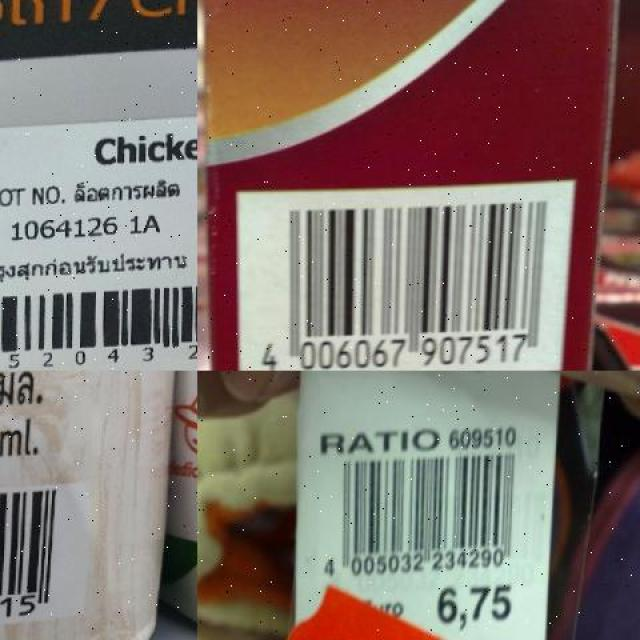Barcode: (233, 180, 578, 371), (299, 397, 548, 592), (0, 276, 197, 370), (0, 488, 87, 636)
